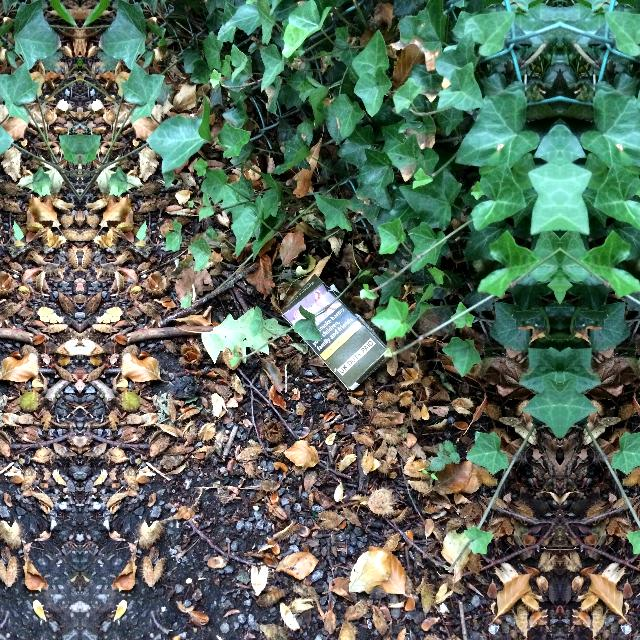Paper: (278, 273, 396, 395)
